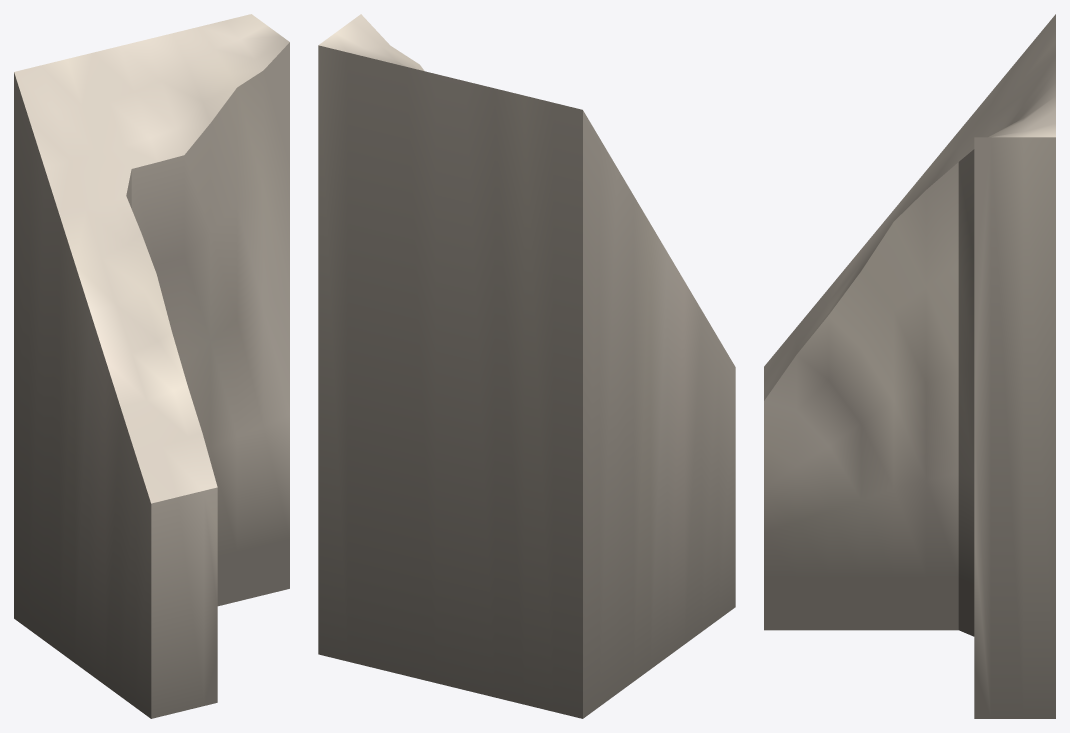
Rendered from SM_VKI_Rock_Cave_COFF_WallE.fbx.
The picture shows the model from 3 angles, left to right: view 1: azimuth 30°, elevation 25°; view 2: azimuth 150°, elevation 25°; view 3: azimuth 270°, elevation 25°; orthographic projection. The views are drawn at different scales.
Parts seen in each view (by area): view 1: SM_VKI_Rock_Cave_COFF_WallE.001; view 2: SM_VKI_Rock_Cave_COFF_WallE.001; view 3: SM_VKI_Rock_Cave_COFF_WallE.001.
Boxes of the visible parts, <box> form: SM_VKI_Rock_Cave_COFF_WallE.001: <box>14,14,289,718</box>; SM_VKI_Rock_Cave_COFF_WallE.001: <box>318,14,735,718</box>; SM_VKI_Rock_Cave_COFF_WallE.001: <box>764,14,1055,718</box>.
Size of the model in its own units: 1.5 by 3.3 by 1.5.
